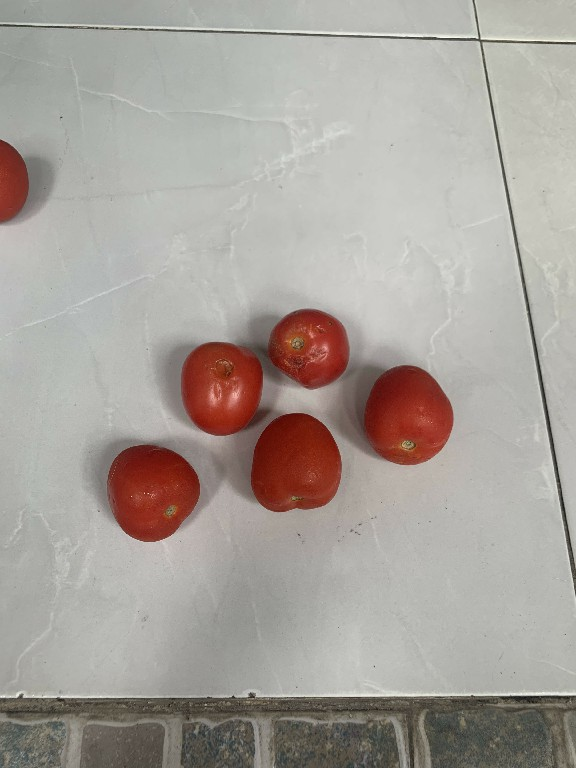NG: (181, 335, 265, 436), (267, 298, 357, 390)
OK: (101, 438, 196, 548), (361, 360, 455, 470), (250, 412, 340, 514)
